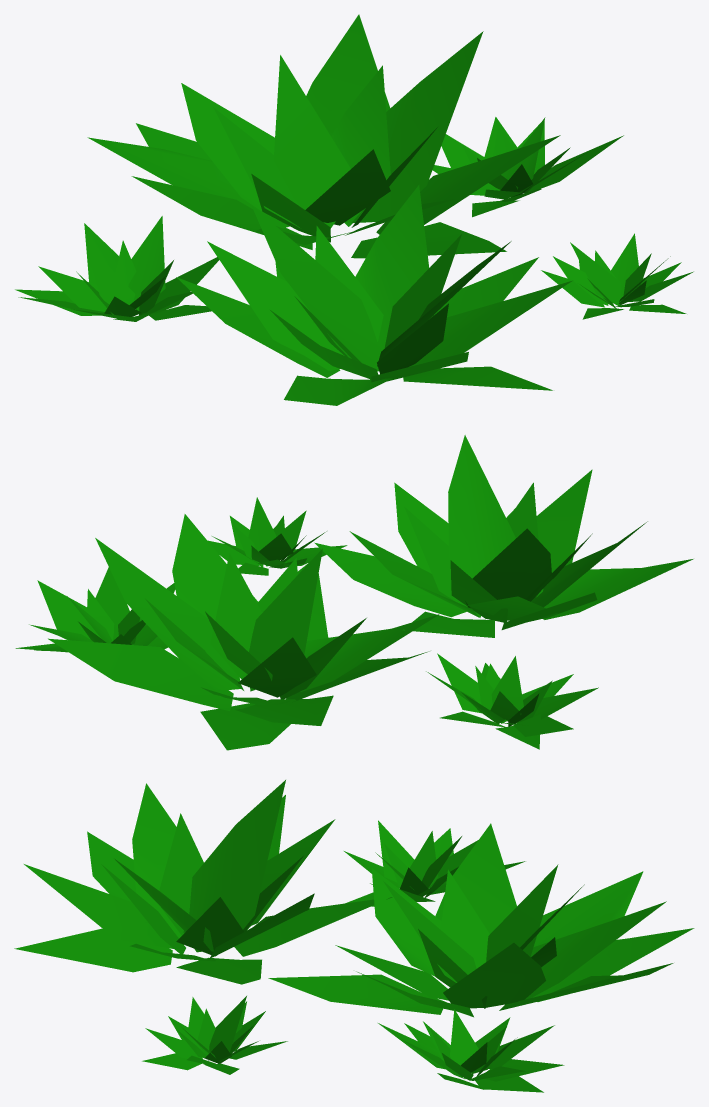
Rendered from SM_Bush_002_LOD5.fbx.
3 renders of one model, top to bottom at view 1: azimuth 30°, elevation 25°; view 2: azimuth 150°, elevation 25°; view 3: azimuth 270°, elevation 25°, orthographic. The views are drawn at different scales.
Parts seen in each view (by area): view 1: Bush_02; view 2: Bush_02; view 3: Bush_02.
Boxes of the visible parts, x1,y1,x2,y2 form: Bush_02: (15, 14, 693, 405); Bush_02: (15, 435, 693, 750); Bush_02: (14, 780, 694, 1092).
Size of the model in its own units: 709 by 173 by 765.
